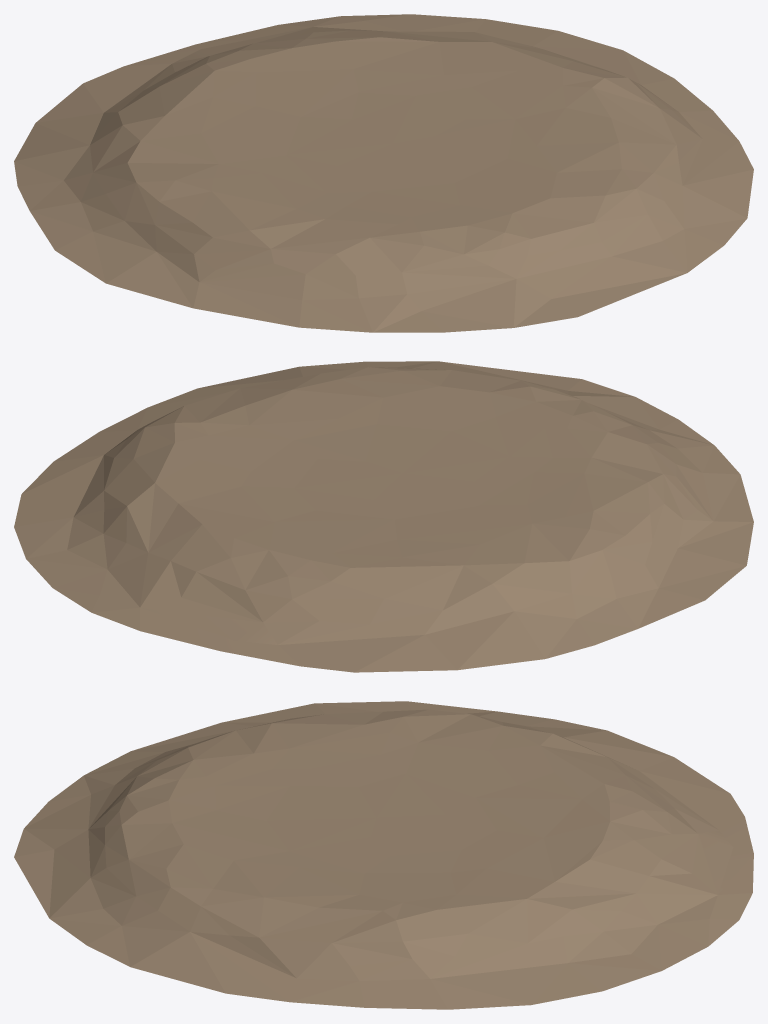
File: SM_Env_Ground_Hill_Flat_01.fbx
3 views of the same model, one above another, from view 1: azimuth 30°, elevation 25°; view 2: azimuth 150°, elevation 25°; view 3: azimuth 270°, elevation 25° (orthographic).
Parts seen in each view (by area): view 1: SM_Env_Ground_Hill_Flat_01; view 2: SM_Env_Ground_Hill_Flat_01; view 3: SM_Env_Ground_Hill_Flat_01.
Boxes of the visible parts, bbox=[...] form: SM_Env_Ground_Hill_Flat_01: bbox=[14, 14, 753, 332]; SM_Env_Ground_Hill_Flat_01: bbox=[14, 361, 753, 672]; SM_Env_Ground_Hill_Flat_01: bbox=[14, 701, 753, 1009].
Bounding box in the file's own units: 1669 × 109 × 1692.
